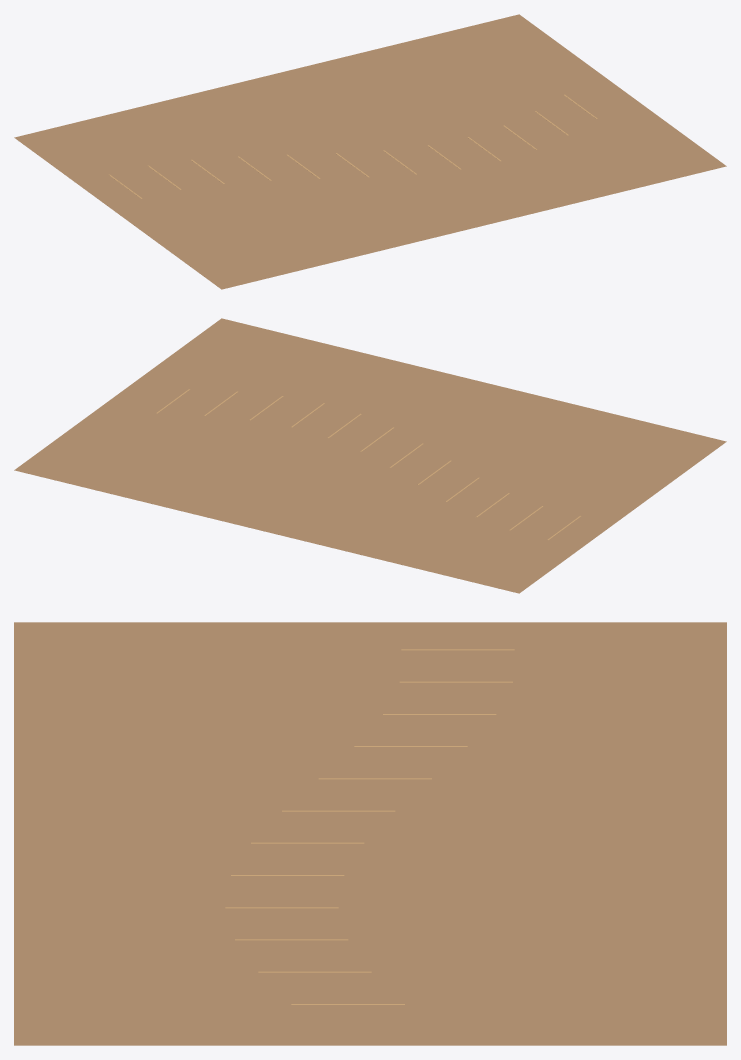
Rendered from 256_L119_L7_LayerReference.glb.
3 renders of one model, top to bottom at view 1: azimuth 30°, elevation 25°; view 2: azimuth 150°, elevation 25°; view 3: azimuth 270°, elevation 25°, orthographic. The views are drawn at different scales.
Visible parts, largest first — view 1: 0000__PSMAT__copper_dark; view 2: 0000__PSMAT__copper_dark; view 3: 0000__PSMAT__copper_dark.
Boxes of the visible parts, x1,y1,x2,y2 form: 0000__PSMAT__copper_dark: (14,14,726,289); 0000__PSMAT__copper_dark: (14,318,726,593); 0000__PSMAT__copper_dark: (14,622,726,1045).
Bounding box in the file's own units: 0.486 × 0.000178 × 0.346.
